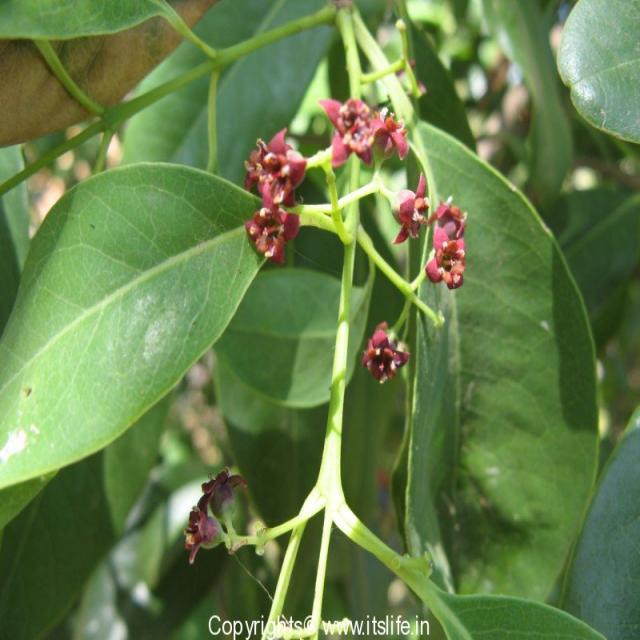Medicinal-Sandalwood: (1, 4, 640, 608)
